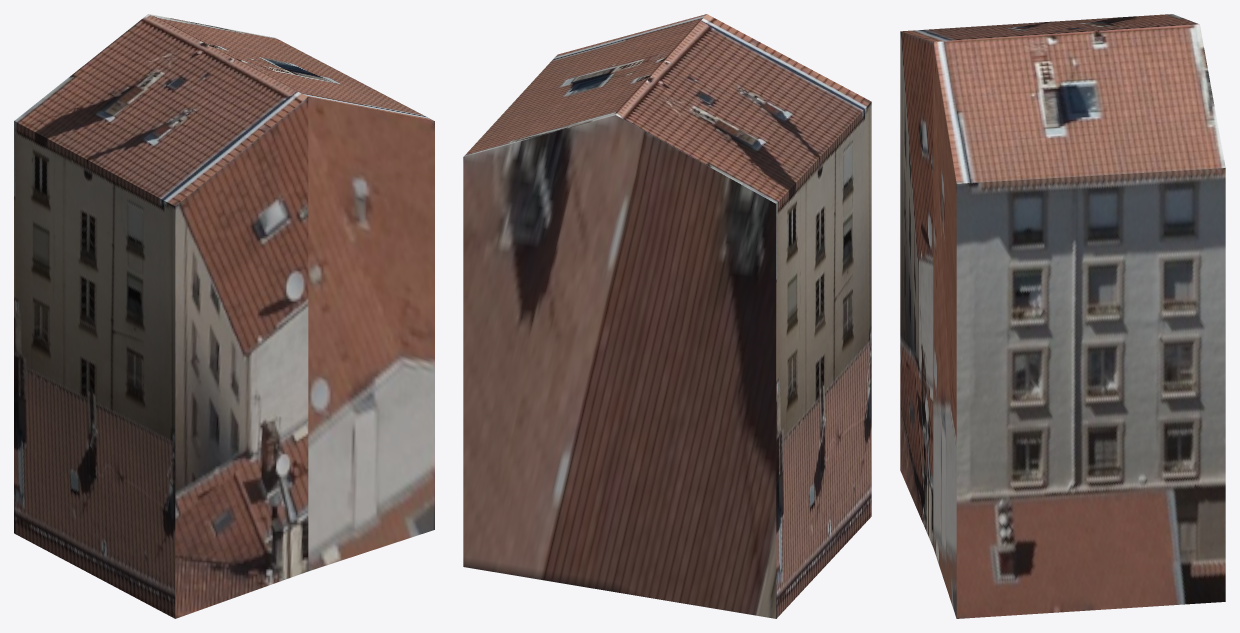
The picture shows the model from 3 angles, left to right: view 1: azimuth 30°, elevation 25°; view 2: azimuth 150°, elevation 25°; view 3: azimuth 270°, elevation 25°; orthographic projection. The views are drawn at different scales.
Parts seen in each view (by area): view 1: Z_UP; view 2: Z_UP; view 3: Z_UP.
Part boxes in pixels (<box>): Z_UP: <box>14,14,434,618</box>; Z_UP: <box>463,14,871,618</box>; Z_UP: <box>900,14,1225,618</box>.
Bounding box in the file's own units: 15.59 × 22.15 × 12.92.
2 materials, 1 textured.
